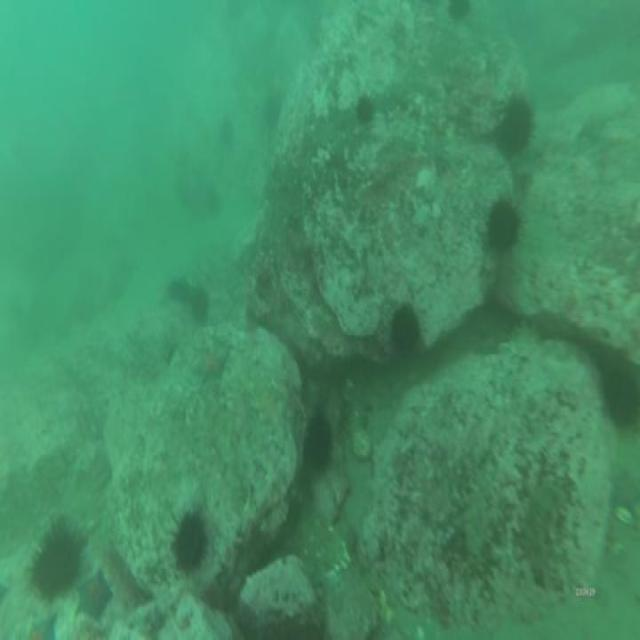echinus: (30, 531, 78, 597), (302, 416, 334, 476), (602, 373, 636, 427), (501, 98, 532, 156), (173, 518, 206, 572), (388, 307, 420, 360), (486, 199, 518, 248), (167, 280, 191, 302), (190, 286, 206, 319), (358, 92, 372, 118)
starfish: (77, 576, 111, 616), (193, 348, 224, 382)
